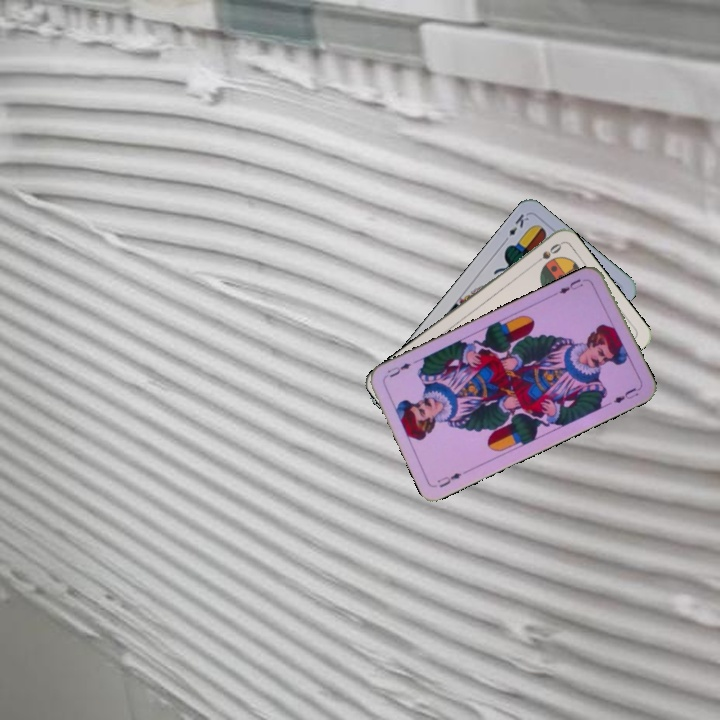EK: (499, 209, 531, 246)
EU: (552, 275, 590, 298), (433, 468, 464, 490)
SO: (529, 239, 564, 268)
